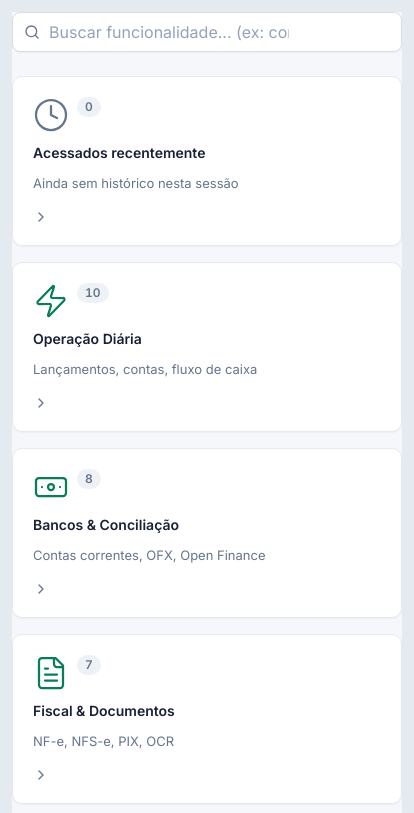
it: FinHomeHub — estante de pastas › volta para a estante
Click the text "Operação Diária".
click(87, 339)  # box [33,327,142,351]
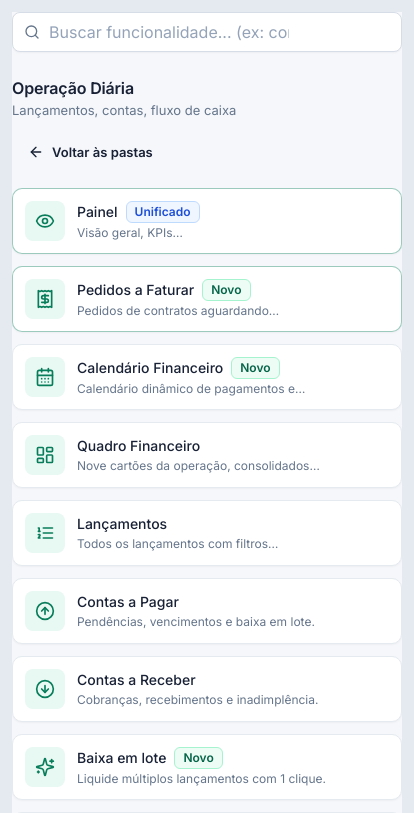
Click the button "Voltar às pastas".
click(90, 152)  # box [12,132,169,172]
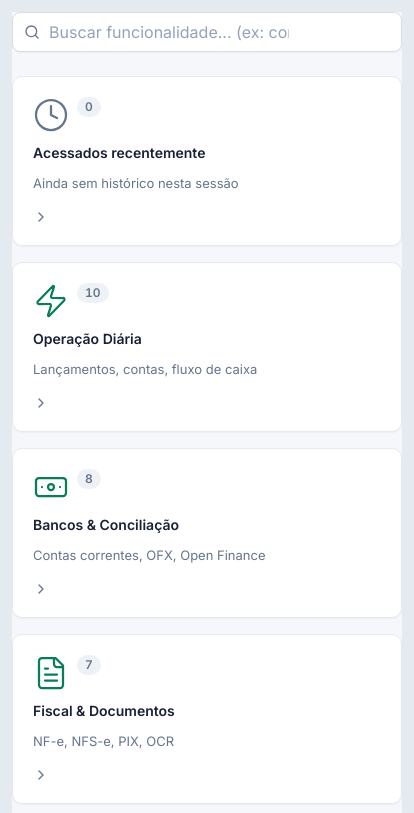
Expected: the text "Fiscal & Documentos" is shown, [33,699,175,723]
